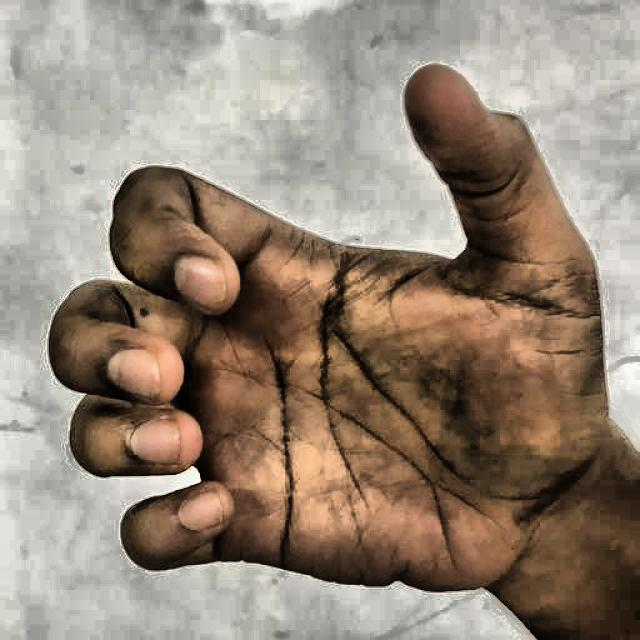Ja: (35, 24, 624, 633)
